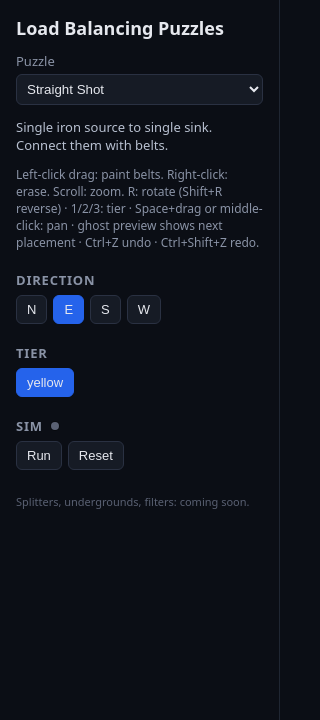
Scenario: App UI smoke › updates the description when the puzzle select changes
The image size is (320, 720).
Check: the text "Single iron source to single sink. Connect them with belts." is shown, box 16,118 -> 212,154
Select "2 Red to 4 Yellow" in the dropdown at (140, 90), box 16,74 -> 263,105
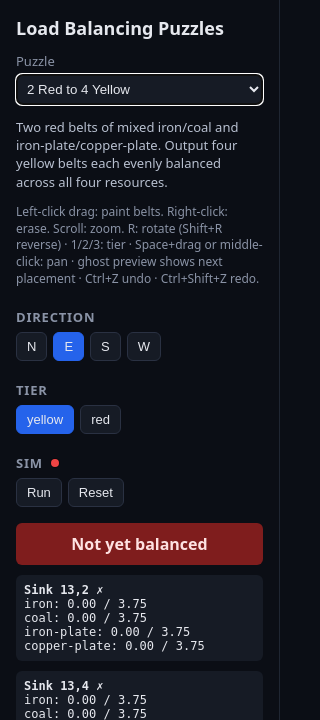
Check: the text "Two red belts of mixed iron/coal and iron-plate/copper-plate. Output four yellow belts each evenly balanced across all f" is shown, box 16,118 -> 238,191
Check: the text "Single iron source to single sink. Connect them with belts." is gone
